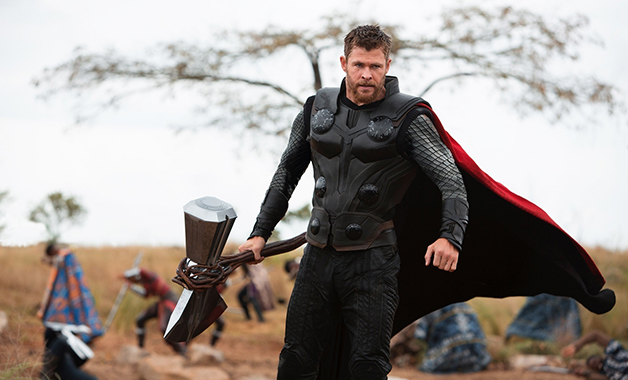THOR Hammer: (180, 192, 318, 355)
